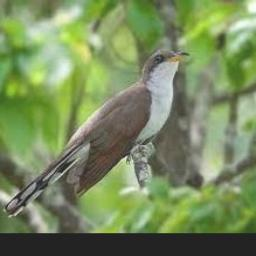Cuckoo: (2, 49, 189, 219)
